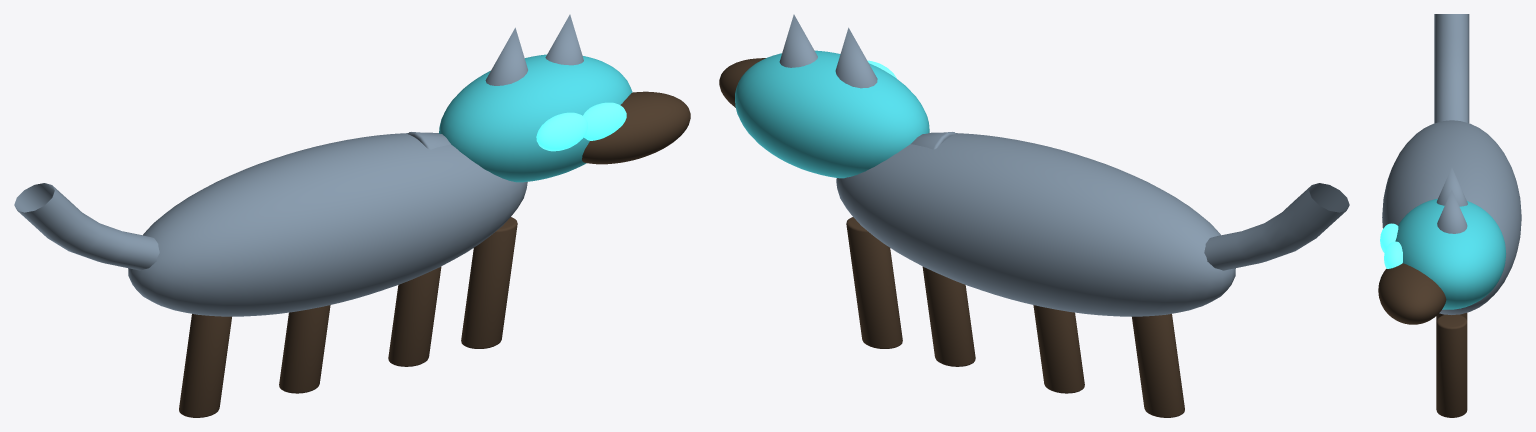
The model's file is quadruped_v5.glb.
3 views of the same model, side by side, from view 1: azimuth 30°, elevation 25°; view 2: azimuth 150°, elevation 25°; view 3: azimuth 270°, elevation 25° (orthographic). The views are drawn at different scales.
Visible parts, largest first — view 1: WOLF_BODY_PRIMARY, WOLF_HEAD_ACCENT, WOLF_TAIL_PRIMARY, WOLF_LEG_SECONDARY.003, WOLF_MUZZLE_SECONDARY, WOLF_LEG_SECONDARY, WOLF_LEG_SECONDARY.002, WOLF_LEG_SECONDARY.001, EYE_EMISSIVE, WOLF_EAR_PRIMARY, EYE_EMISSIVE.001, WOLF_EAR_PRIMARY.001; view 2: WOLF_BODY_PRIMARY, WOLF_HEAD_ACCENT, WOLF_TAIL_PRIMARY, WOLF_LEG_SECONDARY.003, WOLF_LEG_SECONDARY, WOLF_LEG_SECONDARY.002, WOLF_LEG_SECONDARY.001, WOLF_EAR_PRIMARY, WOLF_EAR_PRIMARY.001, WOLF_MUZZLE_SECONDARY; view 3: WOLF_BODY_PRIMARY, WOLF_HEAD_ACCENT, WOLF_TAIL_PRIMARY, WOLF_LEG_SECONDARY.003, WOLF_MUZZLE_SECONDARY, WOLF_EAR_PRIMARY.001, WOLF_EAR_PRIMARY, EYE_EMISSIVE.001, EYE_EMISSIVE.
Part boxes in pixels (x1,y1,x2,y2): WOLF_BODY_PRIMARY: (128, 132, 527, 316); WOLF_HEAD_ACCENT: (439, 54, 632, 182); WOLF_TAIL_PRIMARY: (14, 183, 159, 270); WOLF_LEG_SECONDARY.003: (461, 217, 517, 348); WOLF_MUZZLE_SECONDARY: (582, 91, 690, 164); WOLF_LEG_SECONDARY: (179, 314, 231, 417); WOLF_LEG_SECONDARY.002: (388, 266, 441, 366); WOLF_LEG_SECONDARY.001: (279, 305, 330, 393); EYE_EMISSIVE: (536, 112, 587, 151); WOLF_EAR_PRIMARY: (485, 27, 527, 85); EYE_EMISSIVE.001: (583, 102, 626, 140); WOLF_EAR_PRIMARY.001: (545, 14, 583, 65); WOLF_BODY_PRIMARY: (836, 132, 1235, 316); WOLF_HEAD_ACCENT: (735, 50, 929, 178); WOLF_TAIL_PRIMARY: (1204, 183, 1349, 270); WOLF_LEG_SECONDARY.003: (846, 217, 902, 348); WOLF_LEG_SECONDARY: (1132, 314, 1184, 417); WOLF_LEG_SECONDARY.002: (922, 266, 975, 366); WOLF_LEG_SECONDARY.001: (1033, 305, 1084, 393); WOLF_EAR_PRIMARY: (835, 27, 877, 88); WOLF_EAR_PRIMARY.001: (779, 14, 817, 67); WOLF_MUZZLE_SECONDARY: (719, 58, 765, 107); WOLF_BODY_PRIMARY: (1382, 120, 1521, 314); WOLF_HEAD_ACCENT: (1395, 198, 1506, 309); WOLF_TAIL_PRIMARY: (1434, 14, 1469, 123); WOLF_LEG_SECONDARY.003: (1436, 314, 1467, 417); WOLF_MUZZLE_SECONDARY: (1378, 263, 1446, 324); WOLF_EAR_PRIMARY.001: (1437, 190, 1467, 233); WOLF_EAR_PRIMARY: (1436, 167, 1467, 206); EYE_EMISSIVE.001: (1384, 241, 1402, 268); EYE_EMISSIVE: (1380, 223, 1398, 252).
Size of the model in its own units: 2.99 by 1.35 by 0.6796.
